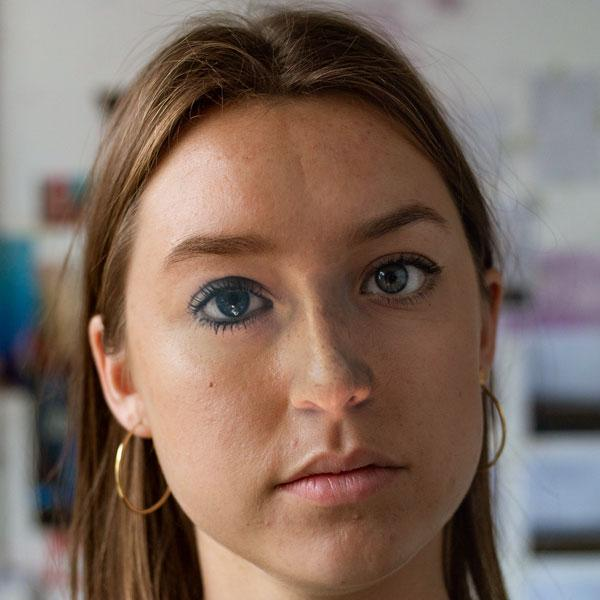Eyes: (179, 265, 285, 347), (352, 240, 449, 318)
